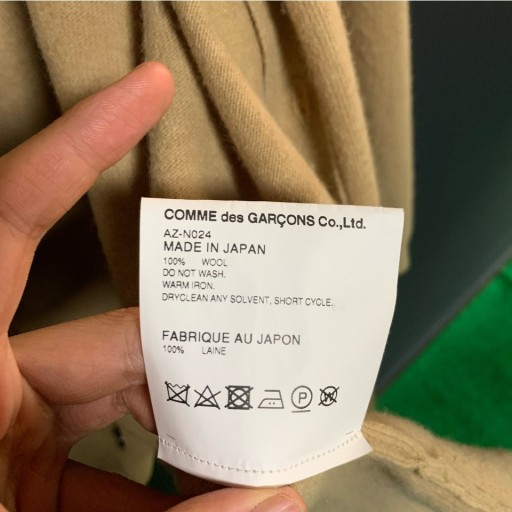ER_dry_clean_chemical_mild: (289, 383, 313, 415)
ER_iron_medium_temp: (257, 386, 286, 412)
ER_no_bleach: (193, 382, 220, 412)
ER_no_tumble_dry: (224, 381, 254, 412)
ER_no_wash: (163, 377, 191, 407)
ER_no_wet_clean: (317, 383, 340, 410)
